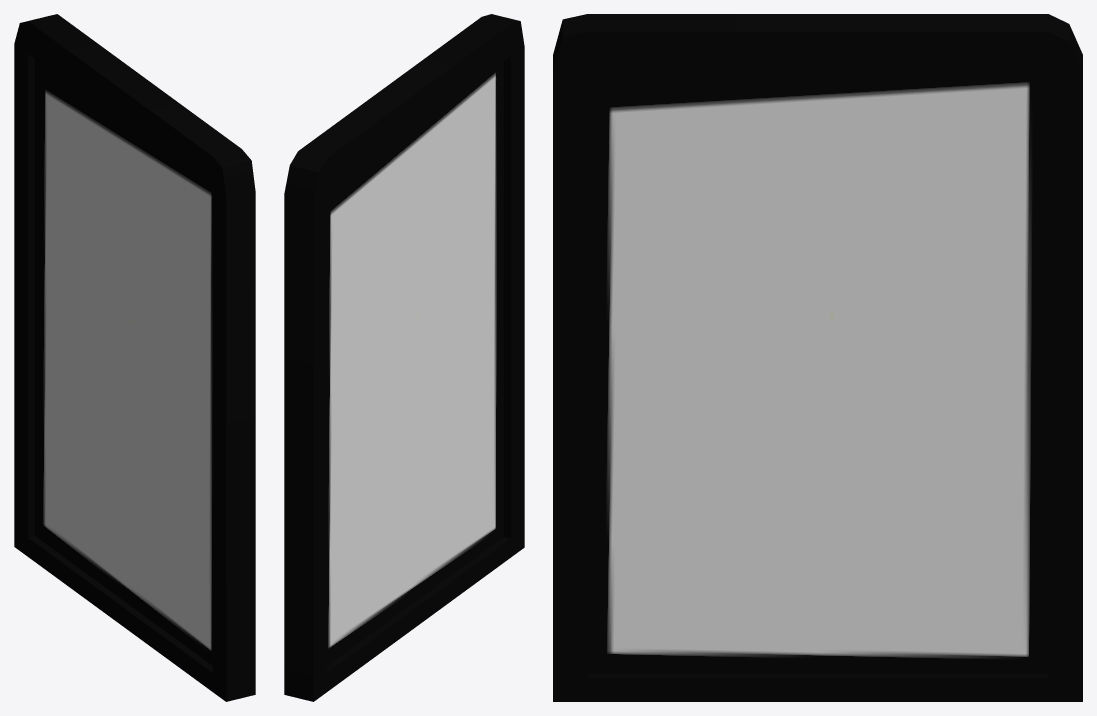
The model's file is billboard4.FBX.
The picture shows the model from 3 angles, left to right: view 1: azimuth 30°, elevation 25°; view 2: azimuth 150°, elevation 25°; view 3: azimuth 270°, elevation 25°; orthographic projection. The views are drawn at different scales.
Parts seen in each view (by area): view 1: Box001; view 2: Box001; view 3: Box001.
Part boxes in pixels (<box>): Box001: <box>14,14,255,701</box>; Box001: <box>284,14,524,701</box>; Box001: <box>553,14,1082,701</box>.
Size of the model in its own units: 0.8235 by 14.35 by 10.28.
